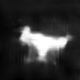plane: (16, 23, 75, 66)
